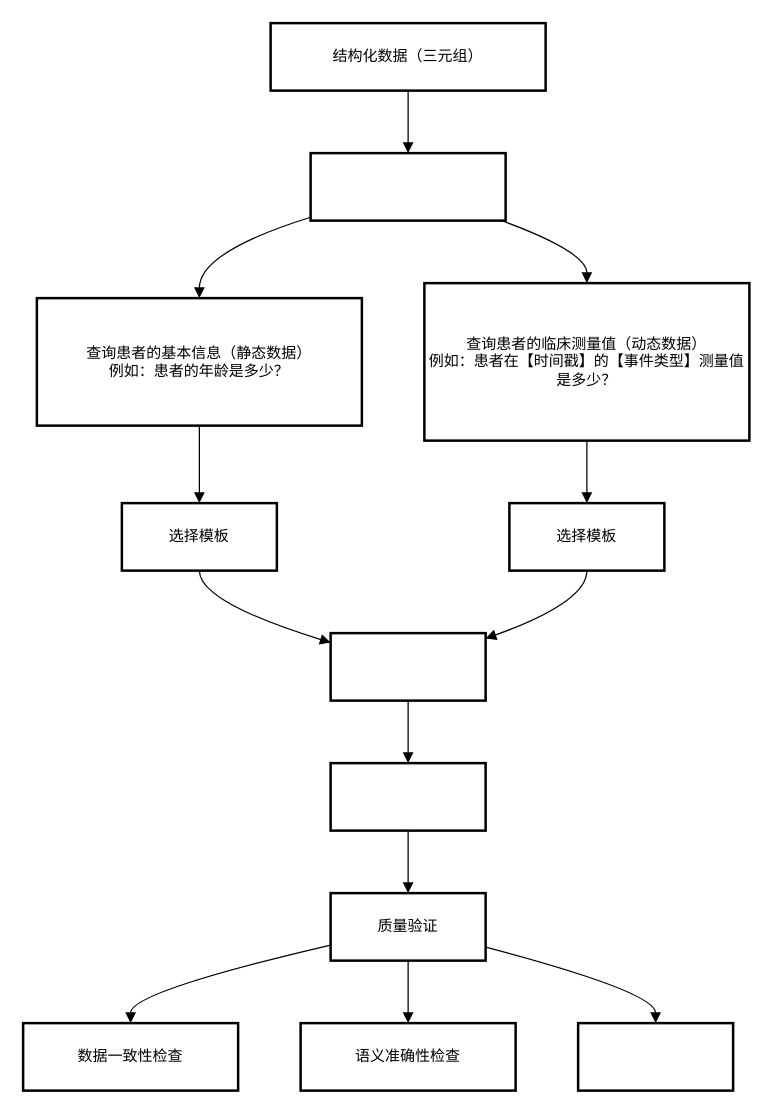
This 771x1113 diagram has some shape labels left out. The centre of each missing label's shape, as x and y in pixels:
"人工审核" belongs at point 655,1056.
"判断信息类别" belongs at point 407,186.
"填充模板" belongs at point 407,666.
"语料扩充" belongs at point 407,796.
